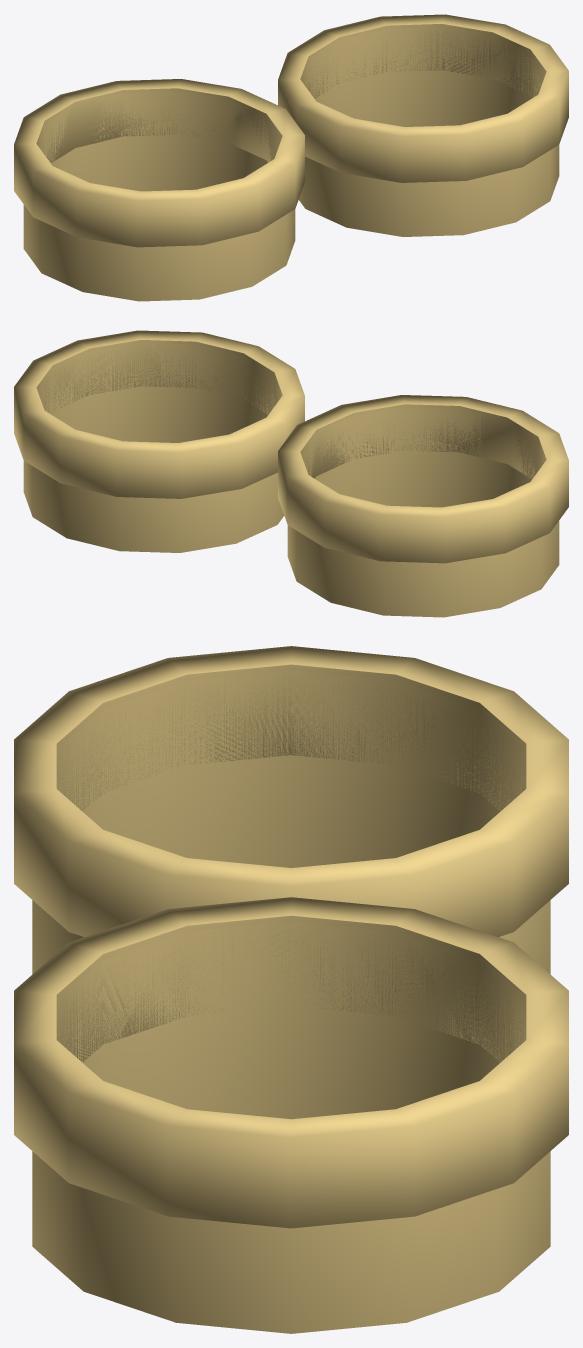
The model's file is knee_bandages.glb.
3 views of the same model, one above another, from view 1: azimuth 30°, elevation 25°; view 2: azimuth 150°, elevation 25°; view 3: azimuth 270°, elevation 25° (orthographic). The views are drawn at different scales.
Parts seen in each view (by area): view 1: knee_bandages_LegL, knee_bandages_LegR; view 2: knee_bandages_LegL, knee_bandages_LegR; view 3: knee_bandages_LegR, knee_bandages_LegL.
Boxes of the visible parts, bbox=[...] form: knee_bandages_LegL: bbox=[14, 79, 304, 301]; knee_bandages_LegR: bbox=[278, 14, 568, 236]; knee_bandages_LegL: bbox=[278, 395, 568, 617]; knee_bandages_LegR: bbox=[14, 330, 304, 552]; knee_bandages_LegR: bbox=[14, 897, 568, 1333]; knee_bandages_LegL: bbox=[14, 646, 568, 974].
Bounding box in the file's own units: 0.372 × 0.072 × 0.1774.
